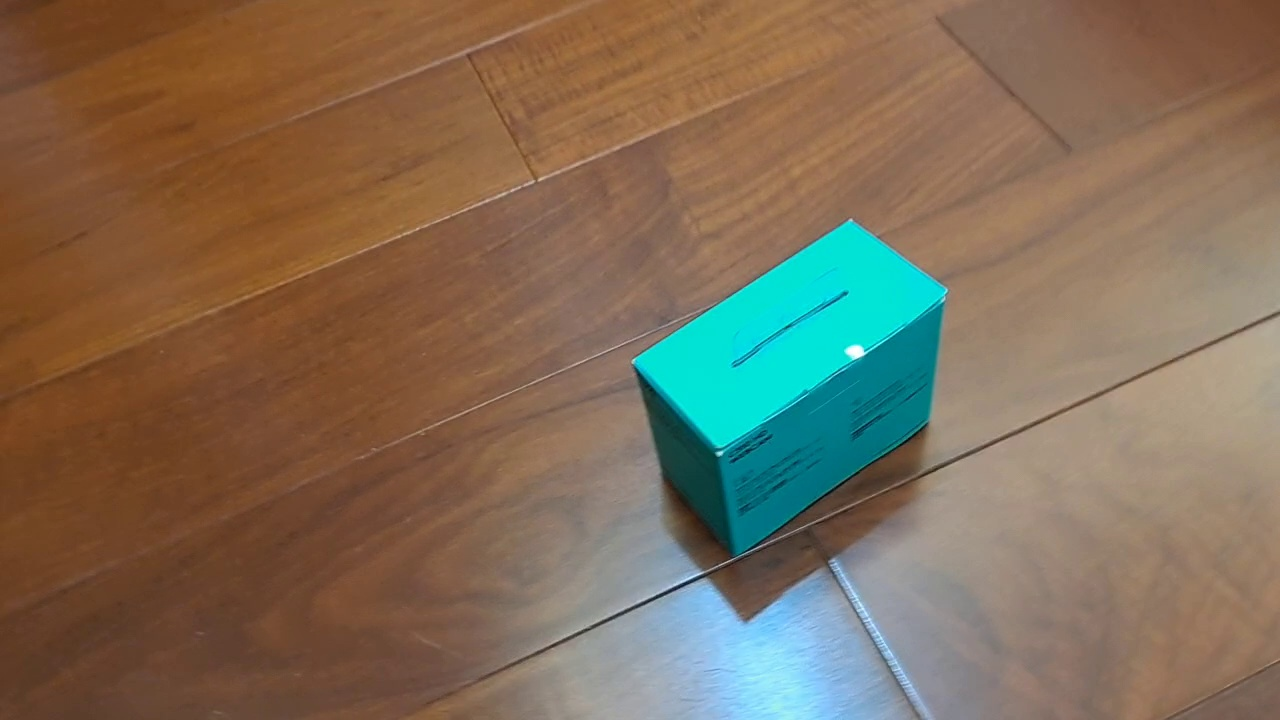webcam: (629, 216, 949, 559)
